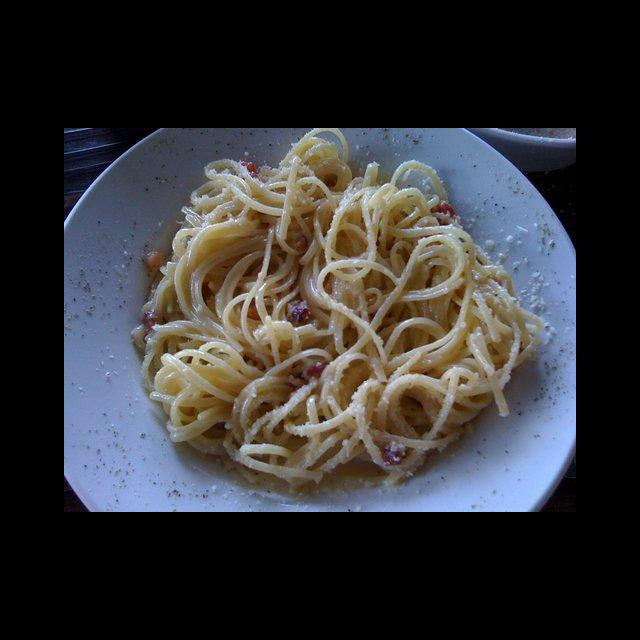noodles: (130, 128, 545, 489)
